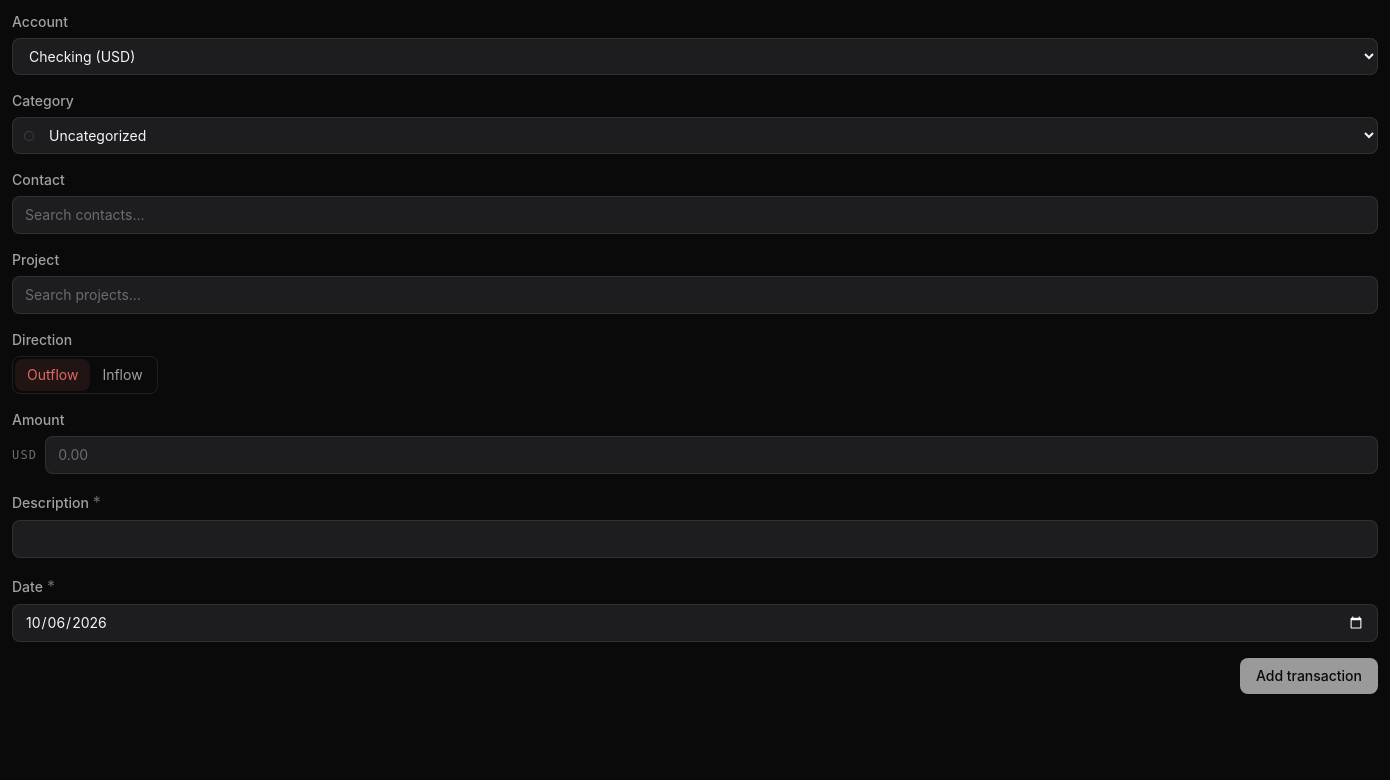
TransactionForm — create › shows a friendly field error on a currency mismatch (422)
Step 1. Type "10" into the field labelled "Amount" → (712, 455), box [45,436,1378,474]
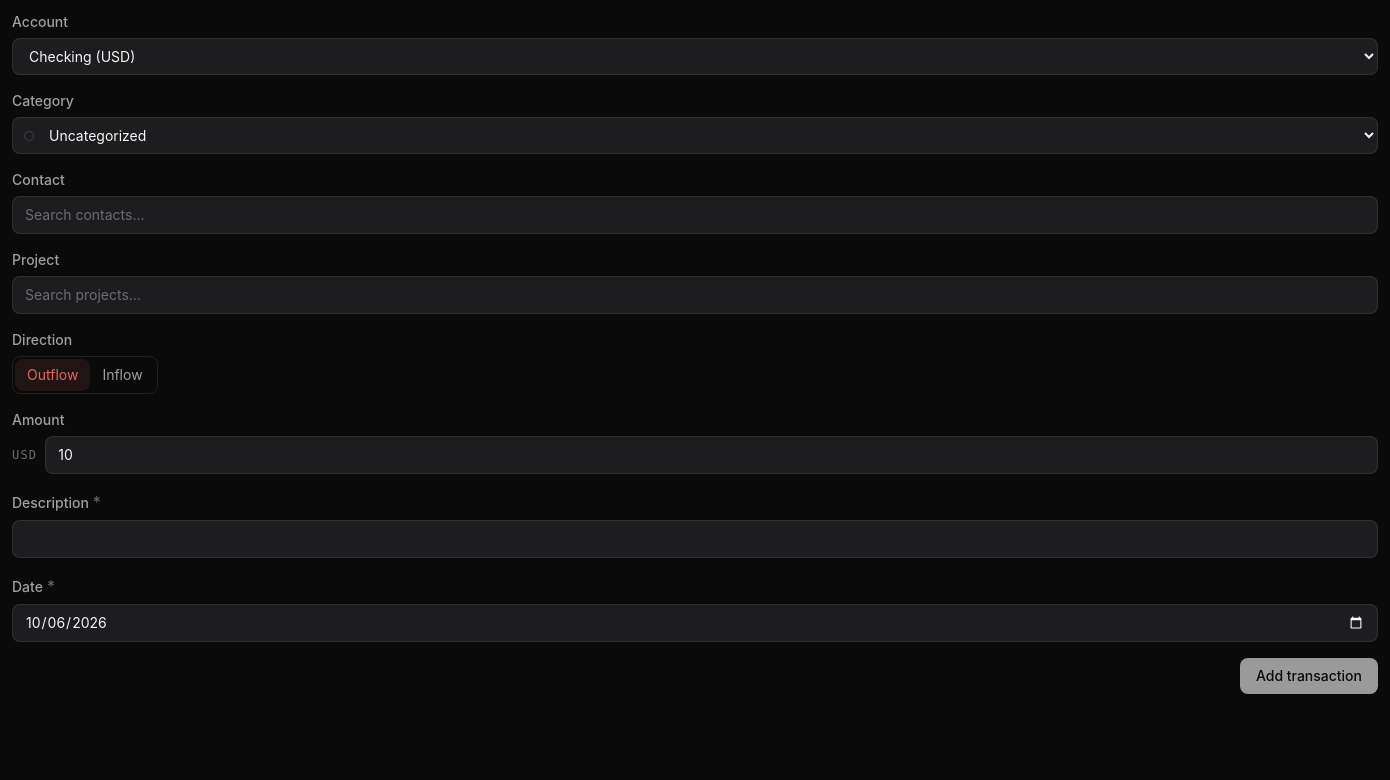
Step 2. Type "Test" into the field labelled "Description" → (695, 539), box [12,520,1378,558]
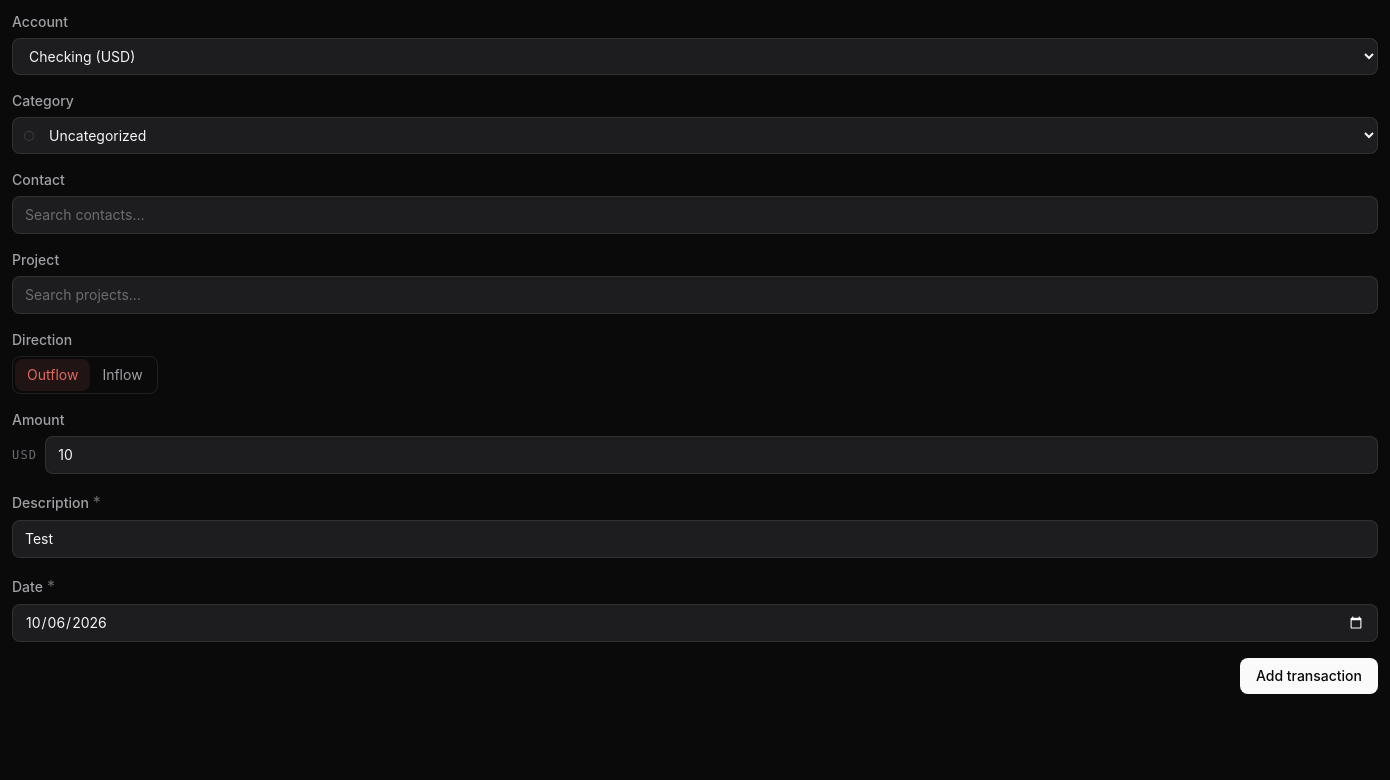
Step 3. Type "2026-09-10" into the date field labelled "Date" → (695, 623), box [12,604,1378,642]
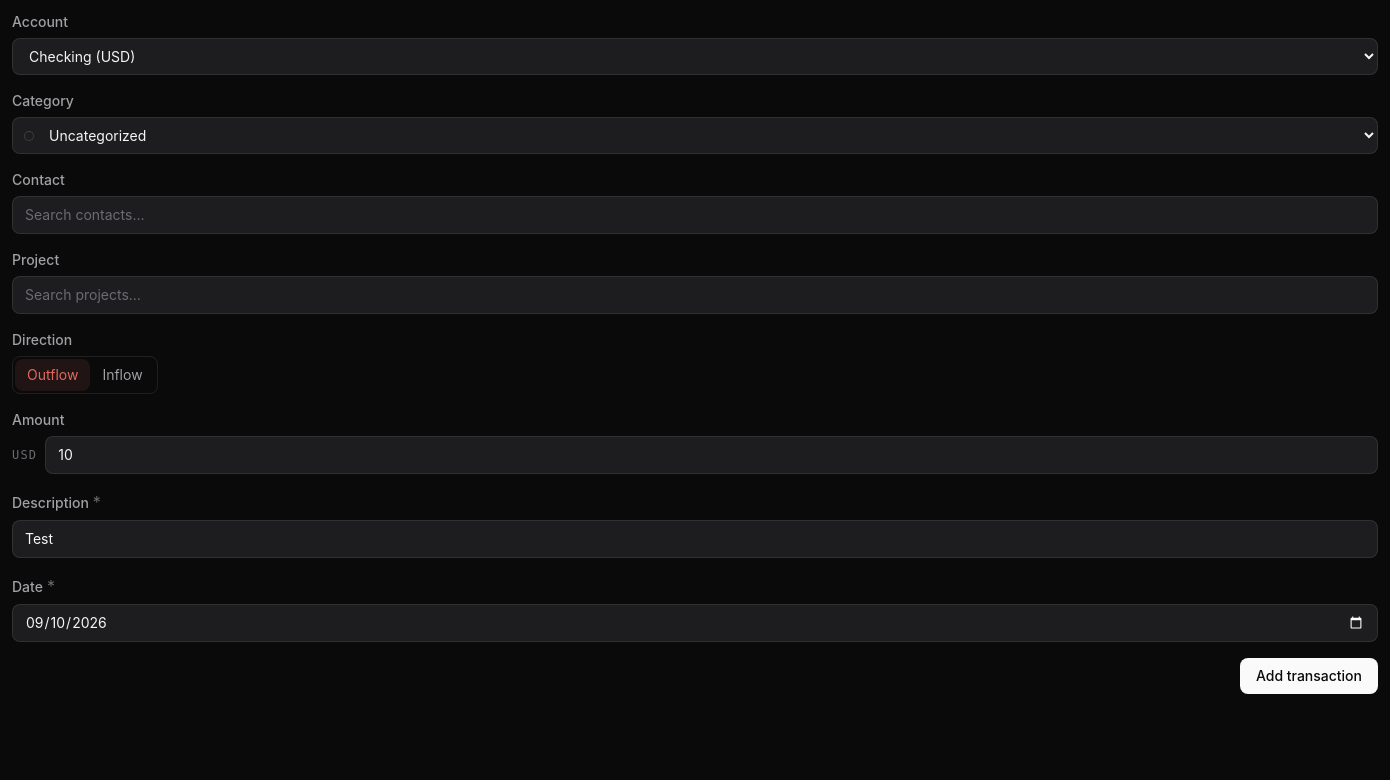
Step 4. Click the button "Add transaction" → (1309, 676), box [1240,658,1378,694]
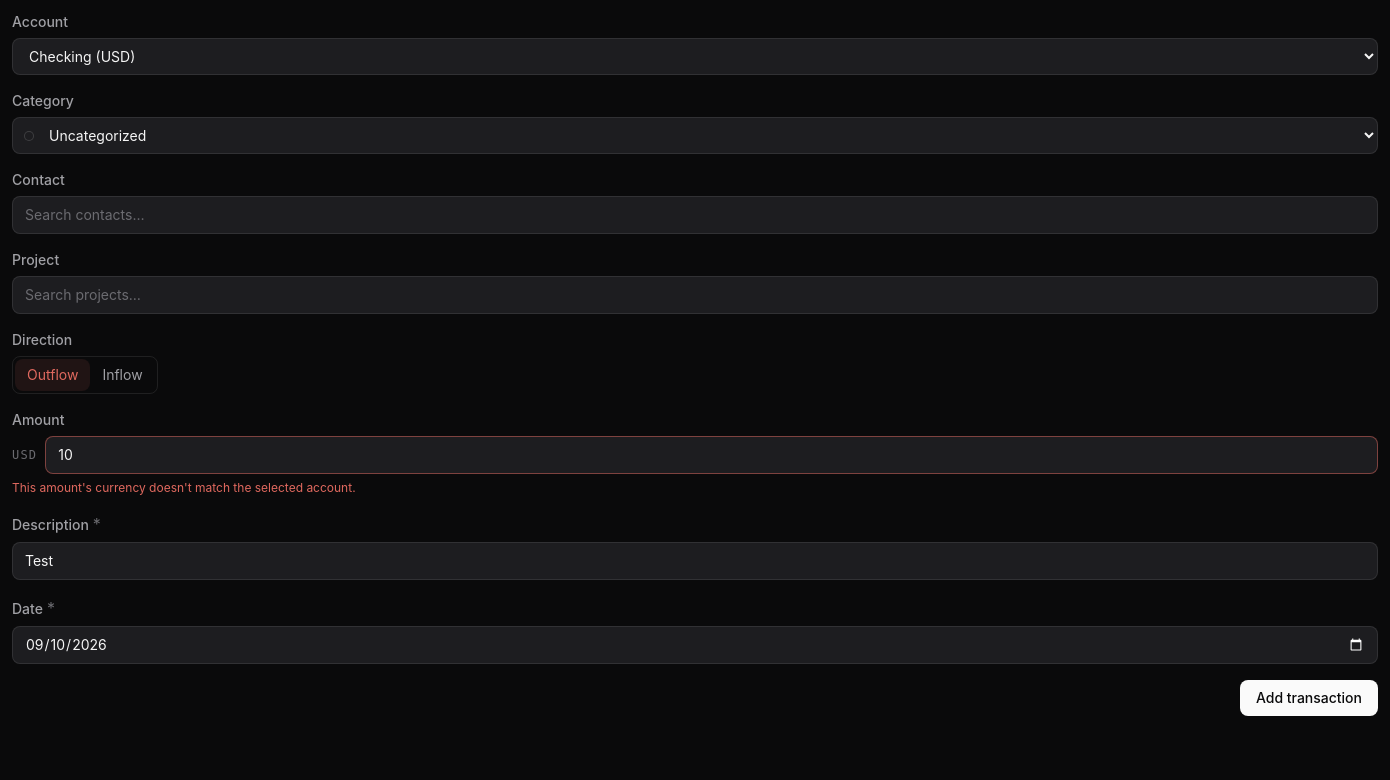
expect the text "This amount's currency doesn't match the selected account." is shown: met, box [12,480,356,495]
